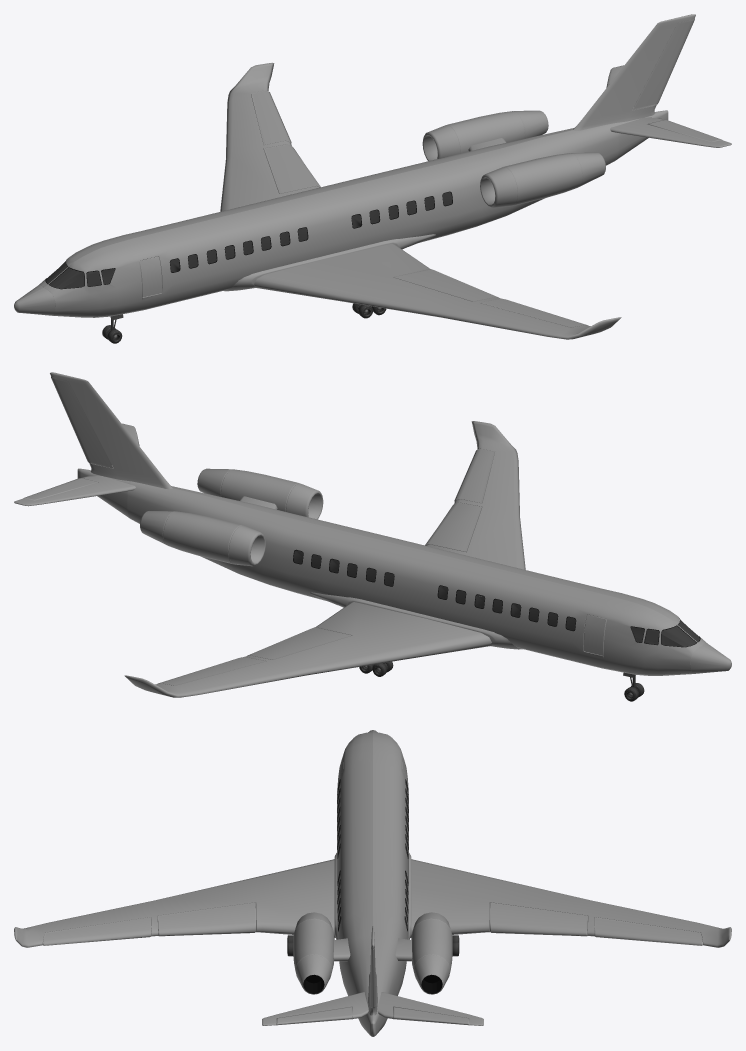
The model's file is airplane_c.FBX.
The picture shows the model from 3 angles, top to bottom: view 1: azimuth 30°, elevation 25°; view 2: azimuth 150°, elevation 25°; view 3: azimuth 270°, elevation 25°; orthographic projection. The views are drawn at different scales.
Parts seen in each view (by area): view 1: Object002c; view 2: Object002c; view 3: Object002c.
Part boxes in pixels (left/top/right/bottom): Object002c: left=14, top=14, right=731, bottom=343; Object002c: left=14, top=372, right=731, bottom=701; Object002c: left=14, top=730, right=731, bottom=1036.
Bounding box in the file's own units: 36.43 × 9.44 × 32.32.
